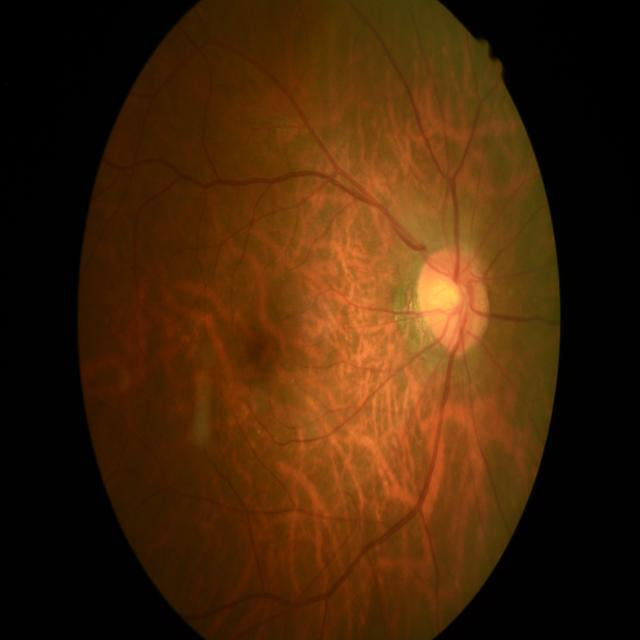cup: (429, 271, 472, 339)
disk: (417, 246, 493, 357)
